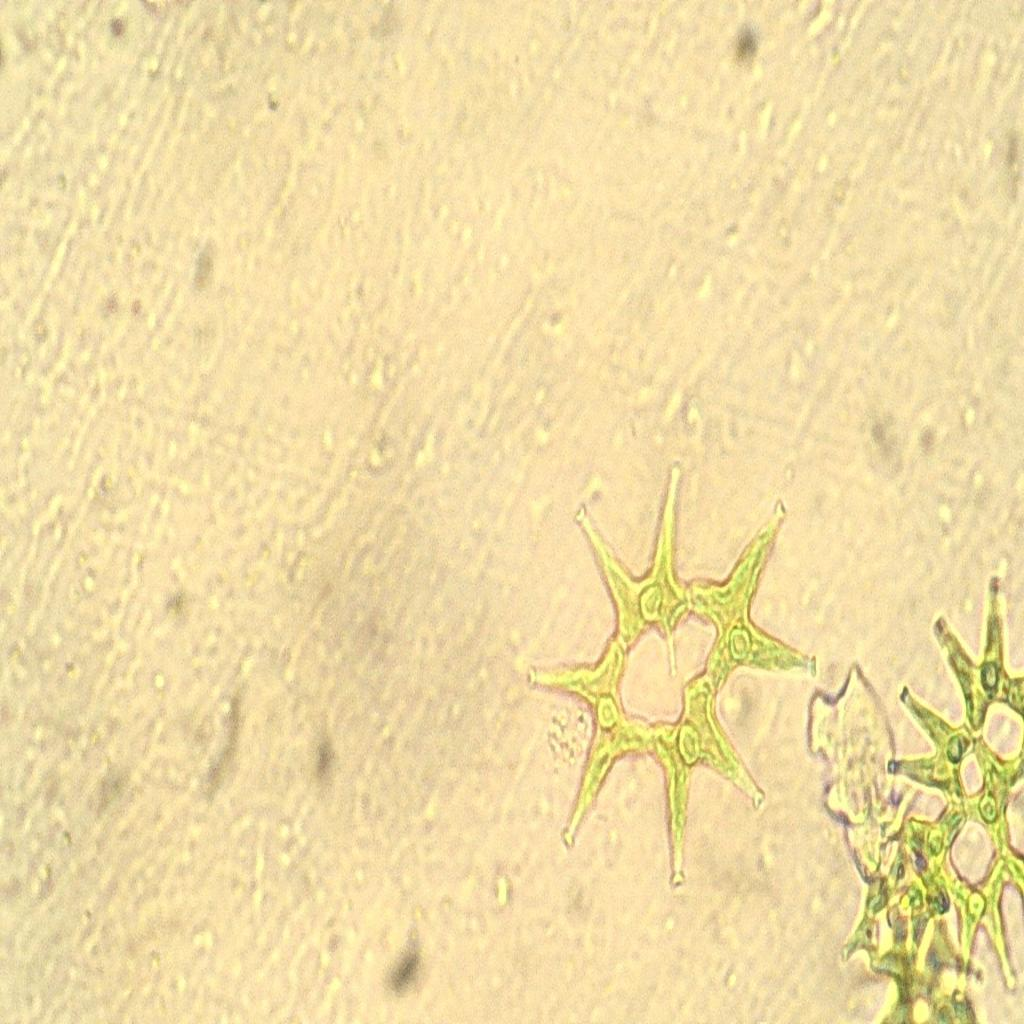Pediastrum_75FO: (512, 460, 808, 898)
